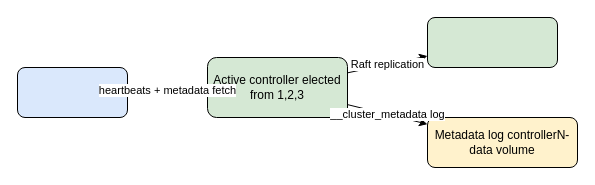
The diagram is 595 pixels wide and 185 high, and some of its shapes have lost their labels. Here are the shapes that lost their labels. From the top down, the centre of each, then its label:
At point (492, 42): "Follower controllers".
At point (72, 92): "Brokers 4,5,6".
